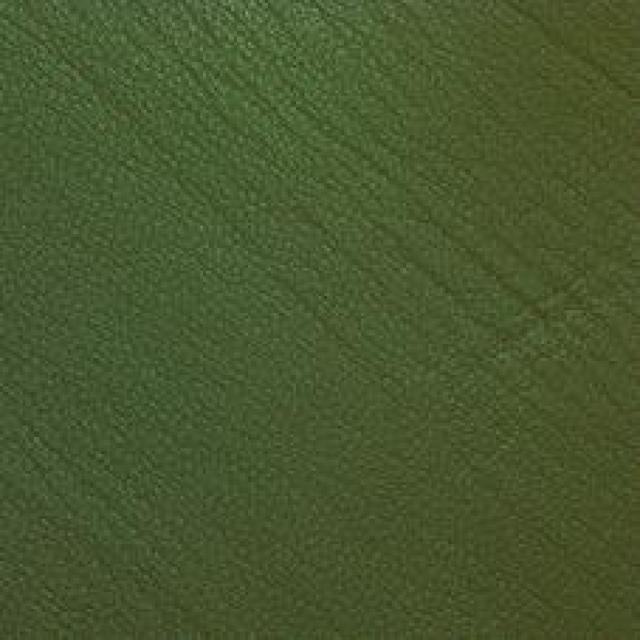Growth Marks: (137, 10, 423, 162), (440, 238, 626, 394), (21, 429, 199, 577)
